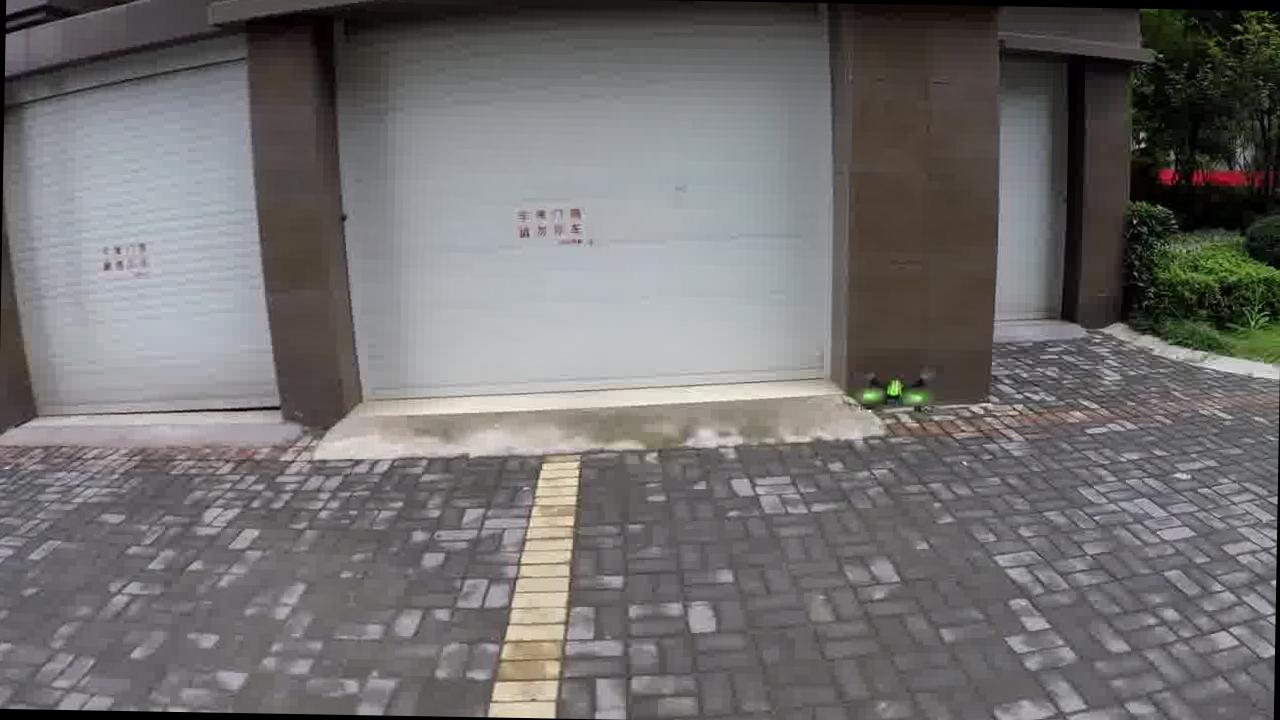drone: (839, 354, 945, 417)
